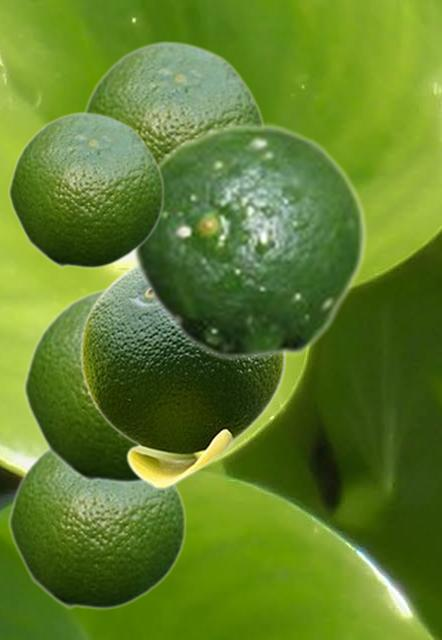calamansi: (131, 122, 367, 361), (80, 263, 285, 488), (7, 448, 186, 609), (7, 110, 164, 268), (22, 285, 142, 483), (80, 39, 264, 159)
